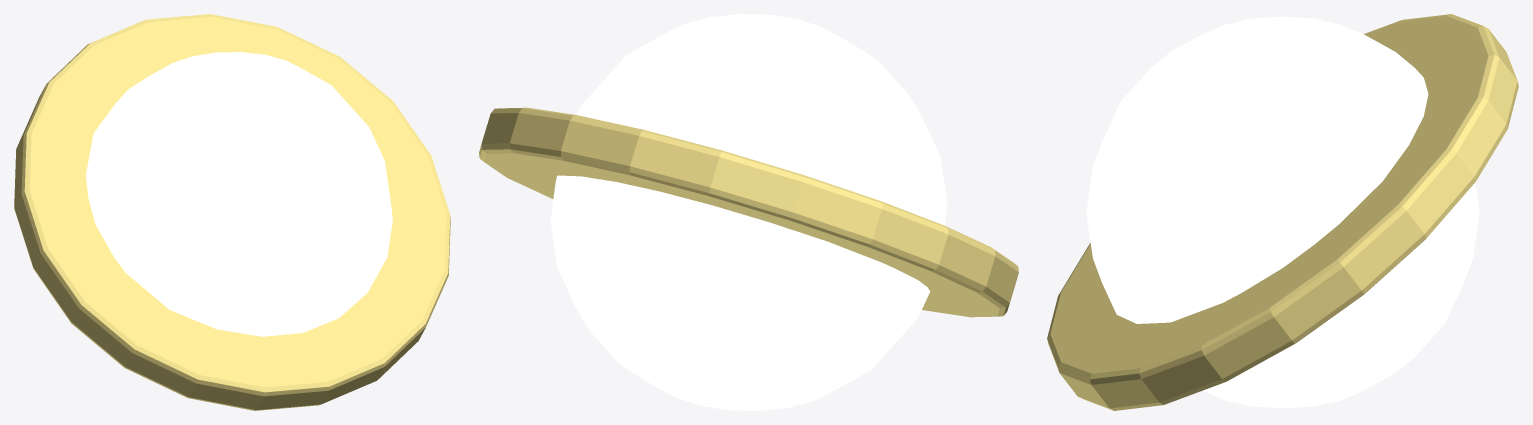
The model's file is AntimatterCore.fbx.
The picture shows the model from 3 angles, left to right: view 1: azimuth 30°, elevation 25°; view 2: azimuth 150°, elevation 25°; view 3: azimuth 270°, elevation 25°; orthographic projection. The views are drawn at different scales.
Visible parts, largest first — view 1: MainMesh; view 2: MainMesh; view 3: MainMesh.
Boxes of the visible parts, x1,y1,x2,y2 form: MainMesh: (14,14,450,410); MainMesh: (479,14,1018,410); MainMesh: (1047,14,1518,410).
Bounding box in the file's own units: 2.1 × 1.5 × 1.8.
